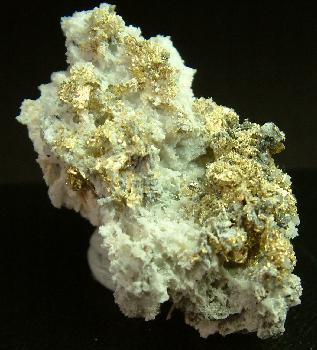gold: (194, 100, 300, 276), (56, 63, 160, 204), (88, 10, 179, 110)
